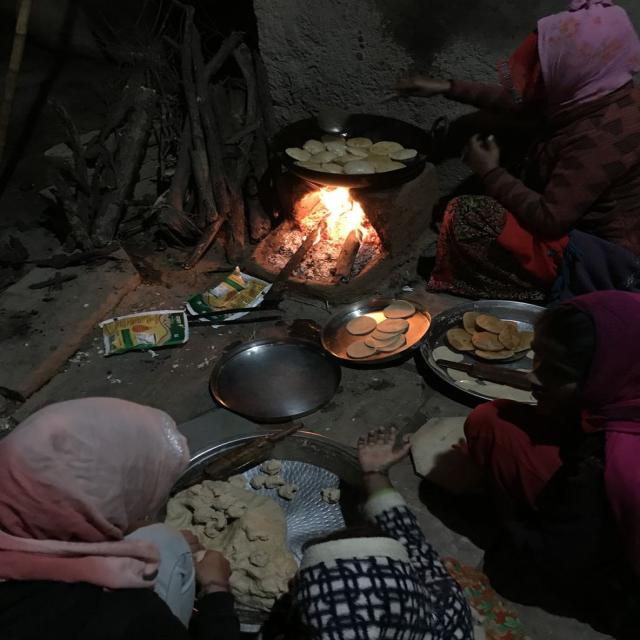fire: (316, 184, 369, 244)
